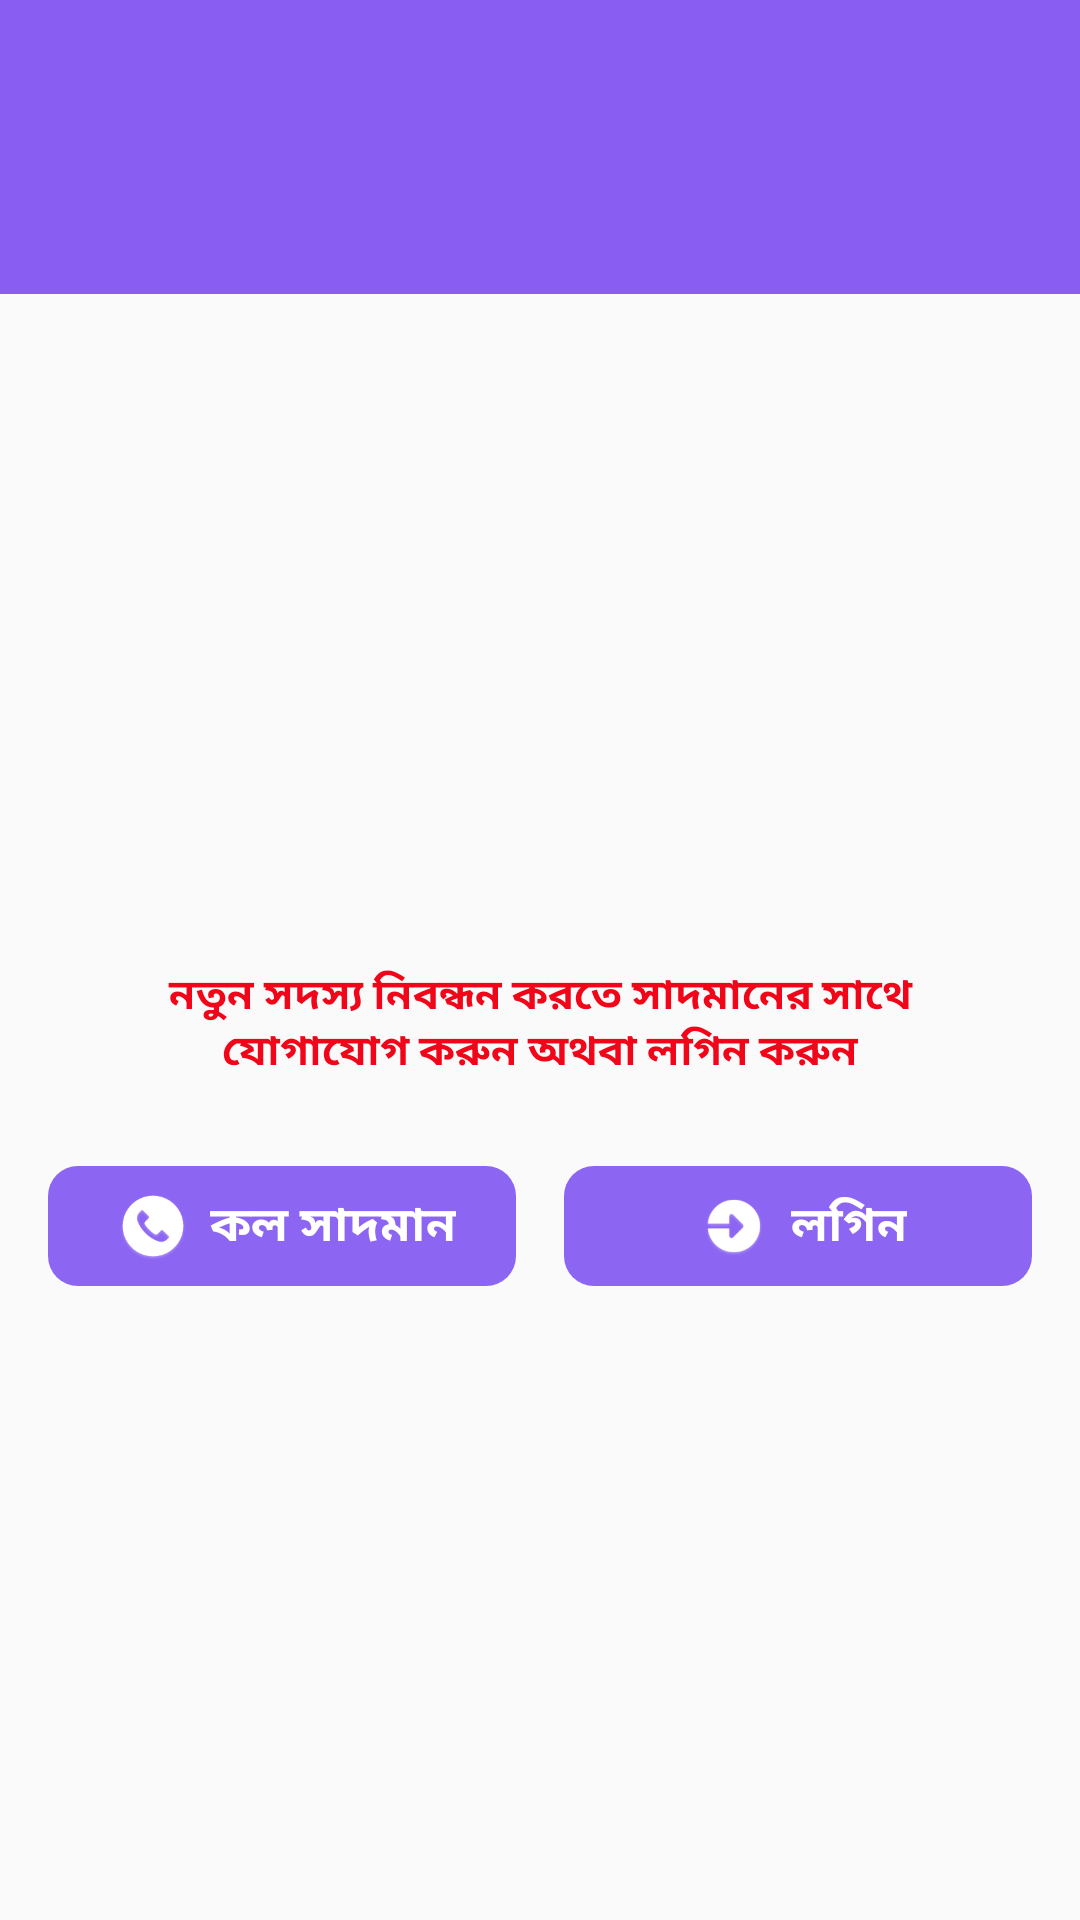

Named icons in this screenshot (1080×1920) and their centers, point (x, y):
call round: point (153, 1226)
login: point (734, 1226)
